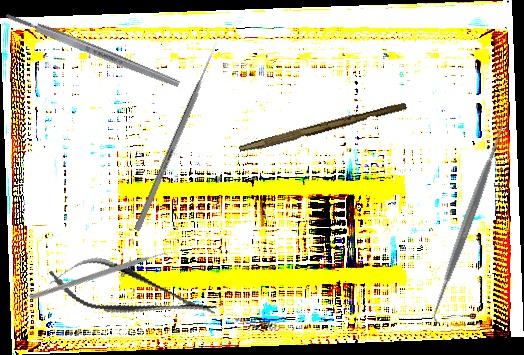Chopper: (27, 202, 176, 355)
Micro Scissor: (43, 247, 222, 338)
Pusher: (133, 41, 221, 232)
Scalpel Handle: (4, 10, 181, 90), (238, 98, 408, 158)
Spatula Surgical: (419, 113, 517, 325)
